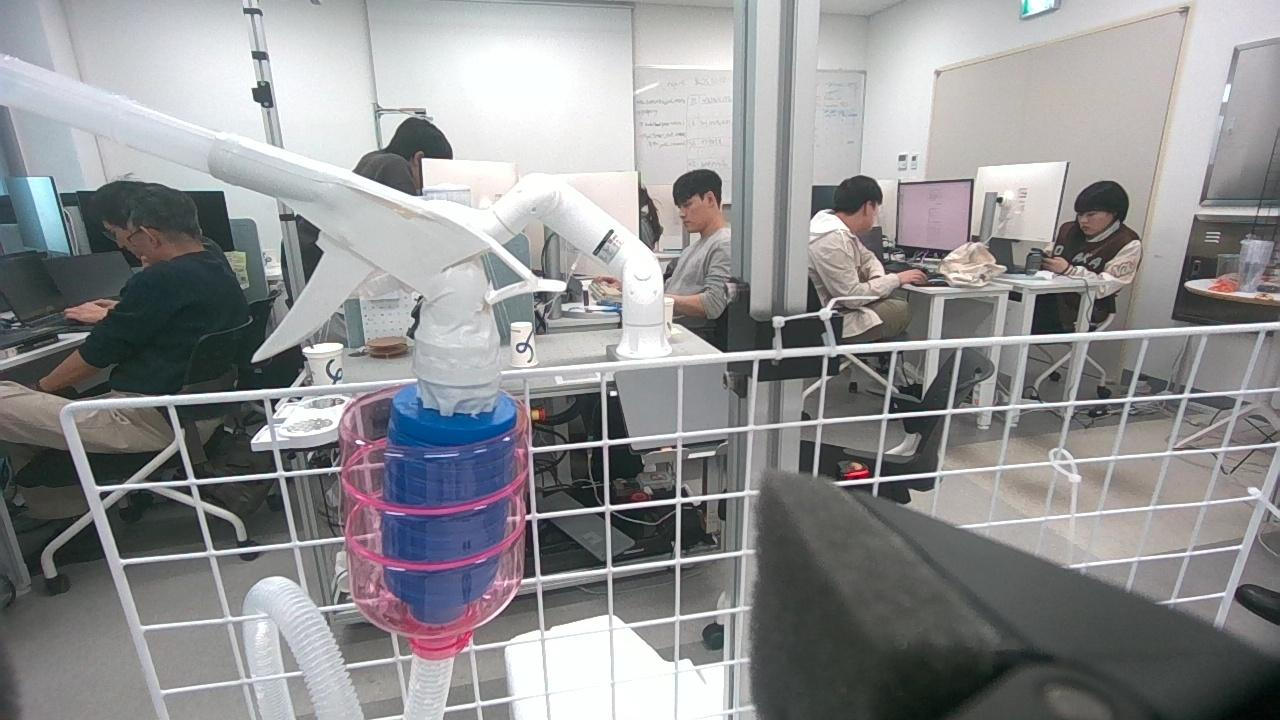Nozzle: (205, 125, 570, 615)
